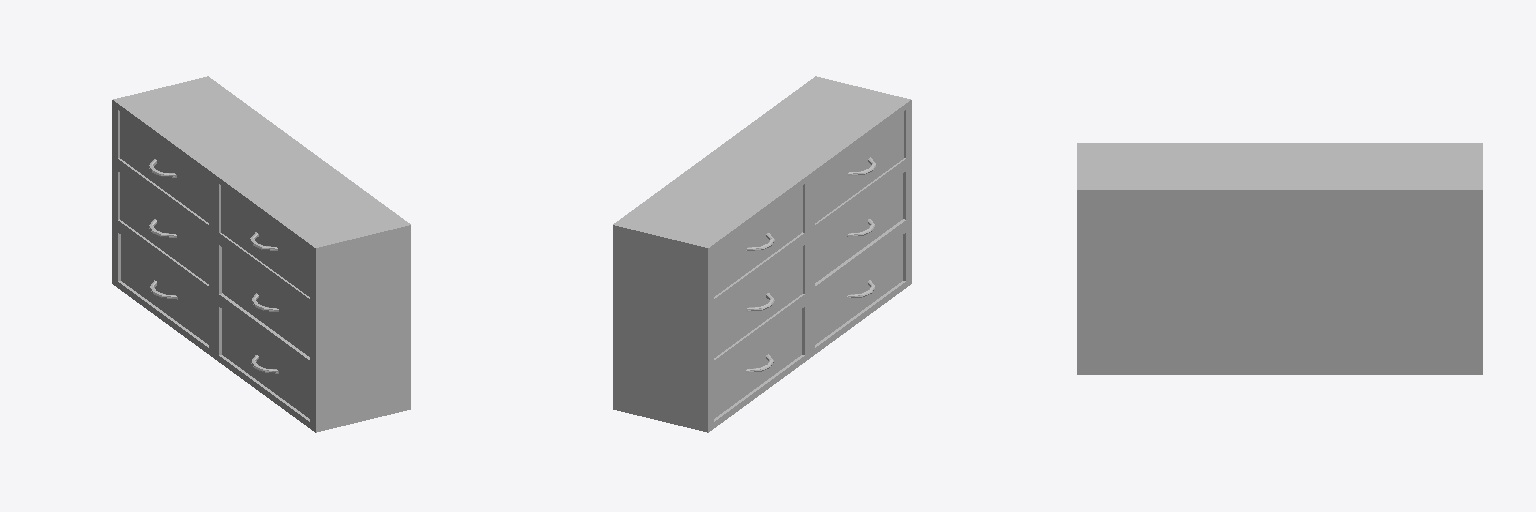
File: Room_301_0_5.obj
3 views of the same model, side by side, from view 1: azimuth 30°, elevation 25°; view 2: azimuth 150°, elevation 25°; view 3: azimuth 270°, elevation 25° (orthographic).
Visible parts, largest first — view 1: Dresser; view 2: Dresser; view 3: Dresser.
Part boxes in pixels (x1,y1,x2,y2): Dresser: (112,76,410,432); Dresser: (613,76,911,432); Dresser: (1077,143,1482,374).
Bounding box in the file's own units: 0.7361 × 1.2 × 2.4.